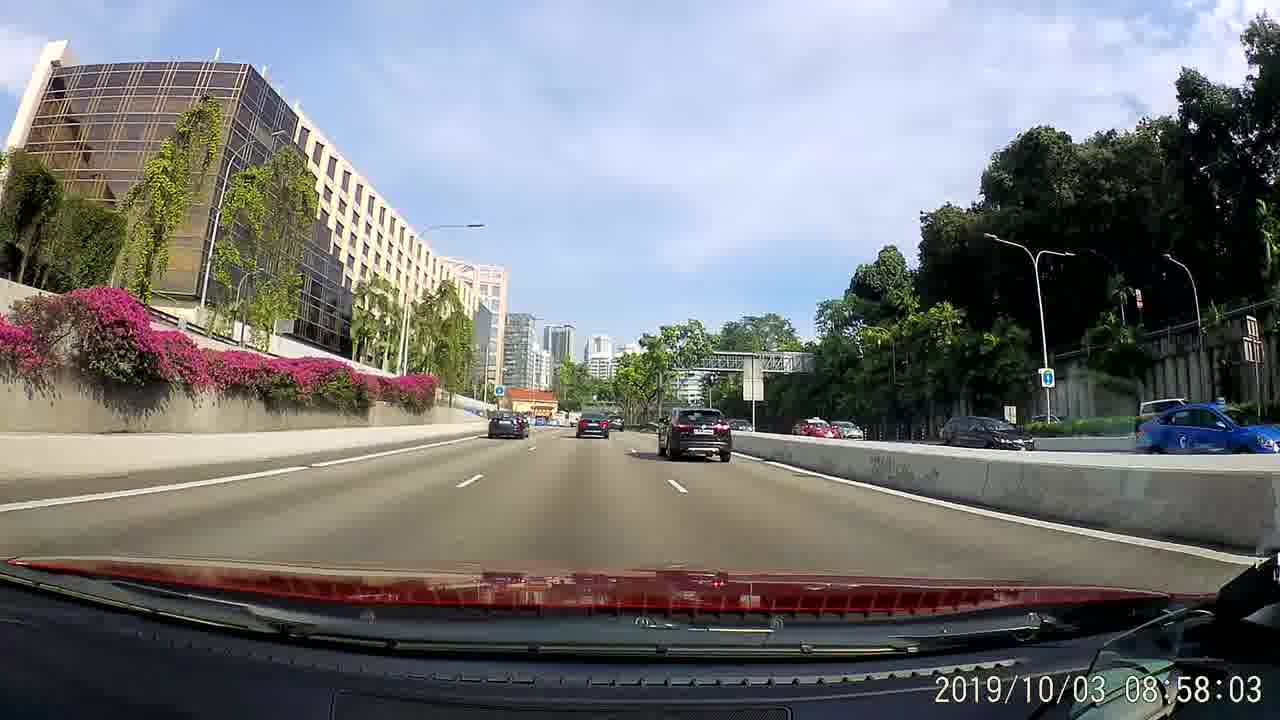car: (1134, 401, 1277, 448), (654, 404, 733, 463), (937, 412, 1039, 448), (485, 409, 532, 441), (790, 414, 836, 440), (572, 412, 613, 440), (829, 420, 866, 439), (608, 410, 629, 431), (729, 418, 752, 429)
